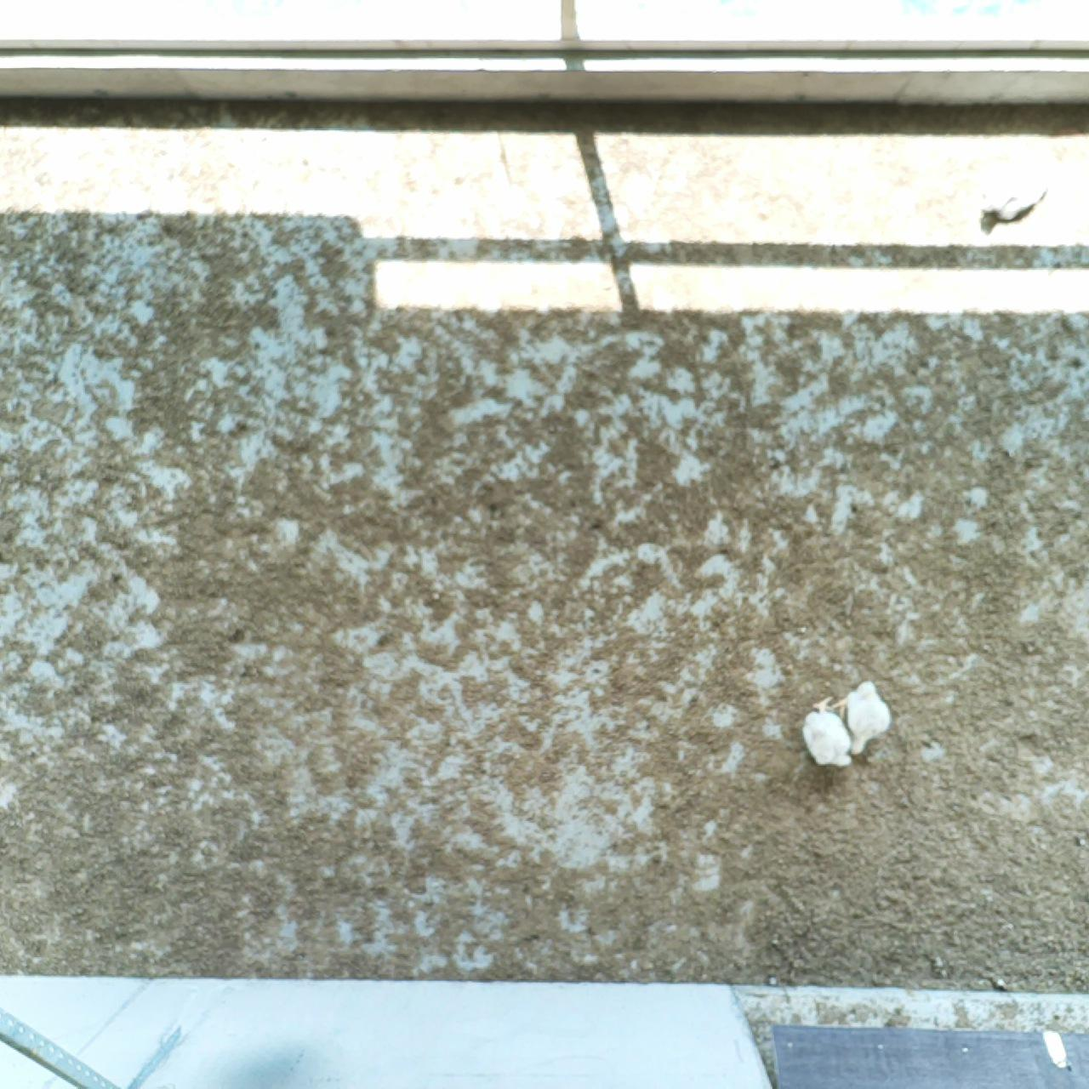chicken: (971, 134, 1059, 229), (831, 678, 894, 757), (798, 692, 857, 774)
